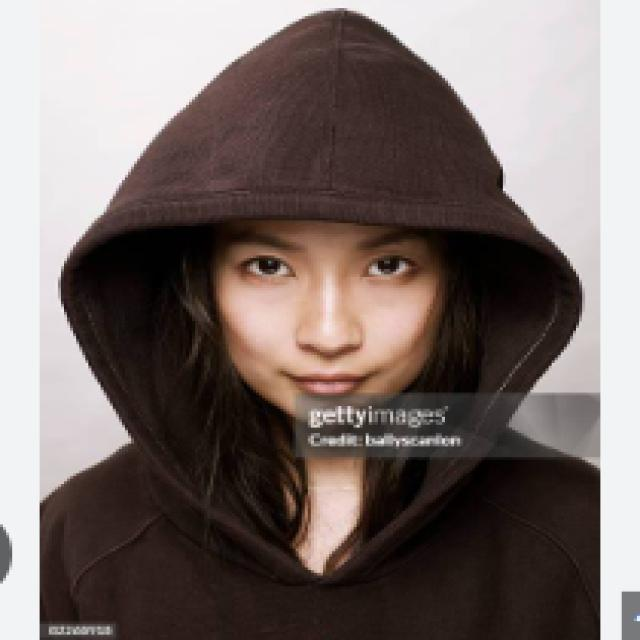4_capucha: (55, 7, 585, 473)
